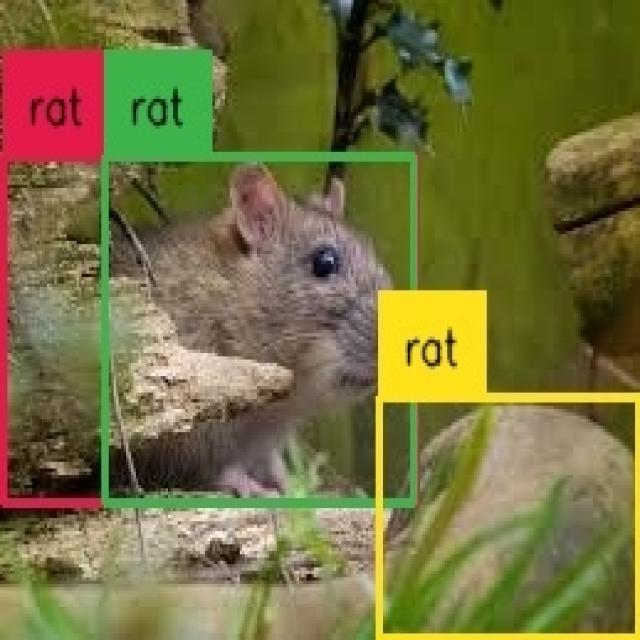rat: (5, 157, 415, 503), (104, 155, 415, 501), (380, 399, 640, 640)
